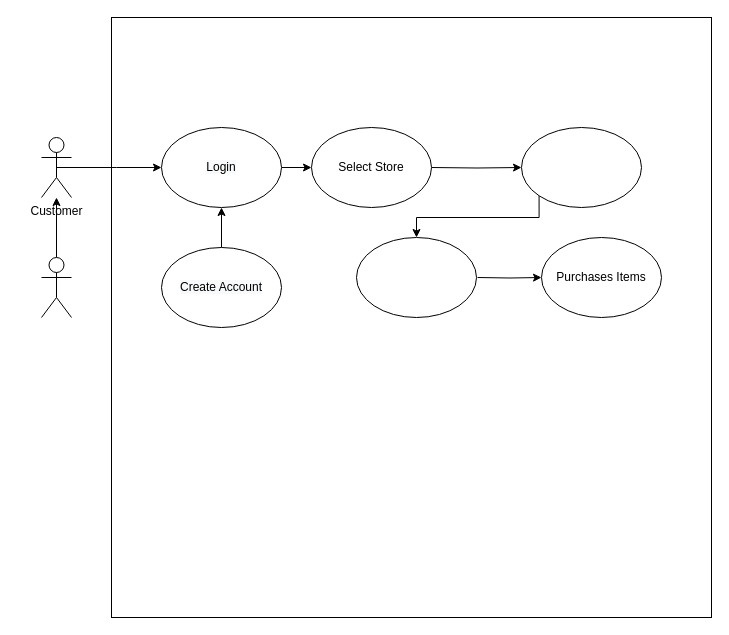
Image size: 729x635. Some labels were removed from this diagram. Each missing label, with the centre of its shape:
"New Customer" goes at [56,287].
"Selects Delivery Method" goes at [416,277].
"Selects Items" goes at [581,167].
